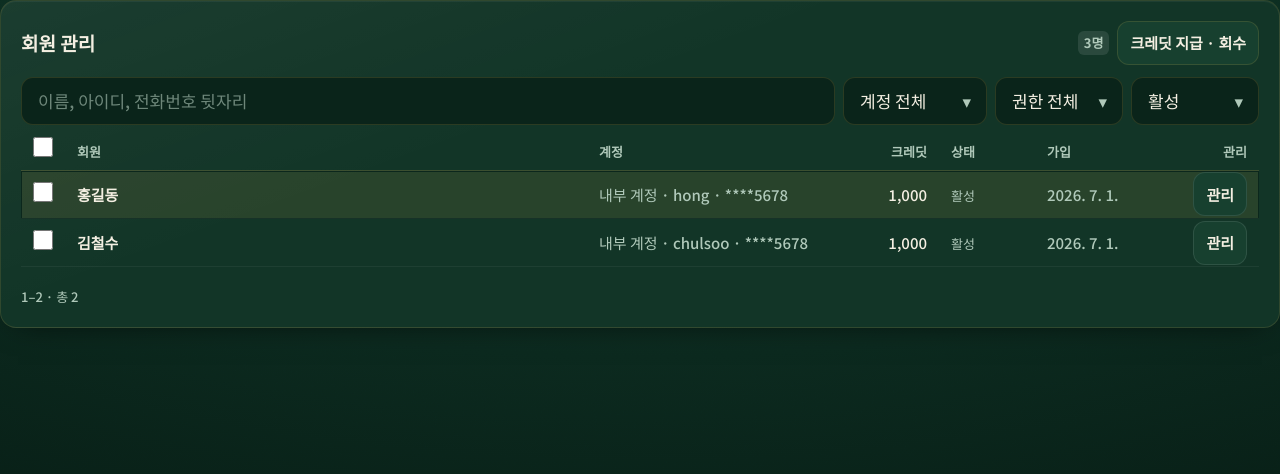
Test case: MembersPanel — 기본 목록 › 상태 필터를 전체로 바꾸면 정지 계정이 보인다
Select "상태 전체" in the dropdown named "계정 상태로 걸러내기" at (1195, 101), box [1131,77,1259,125]
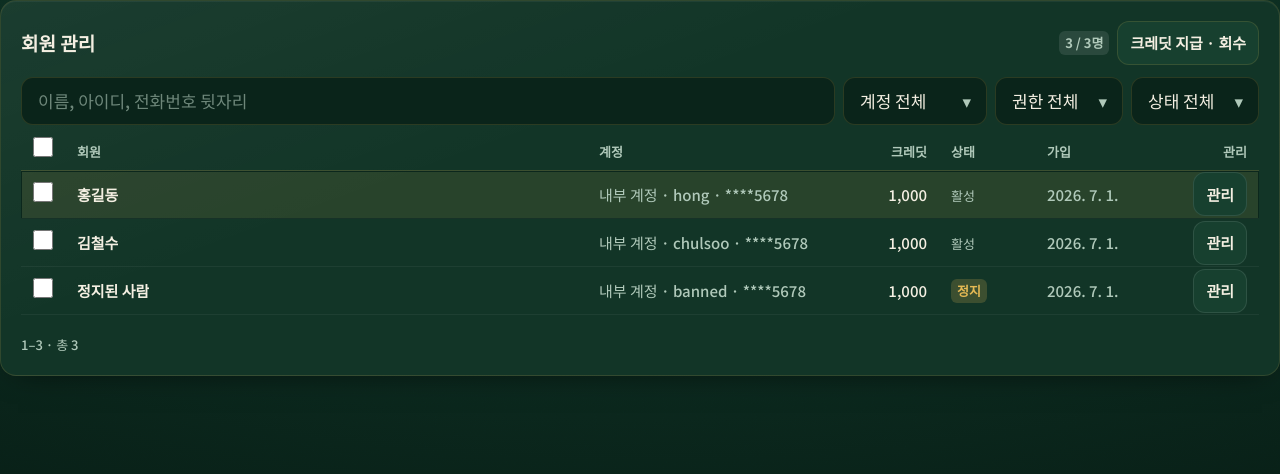
Expected: the text "정지된 사람" is shown, [77,279,149,302]
